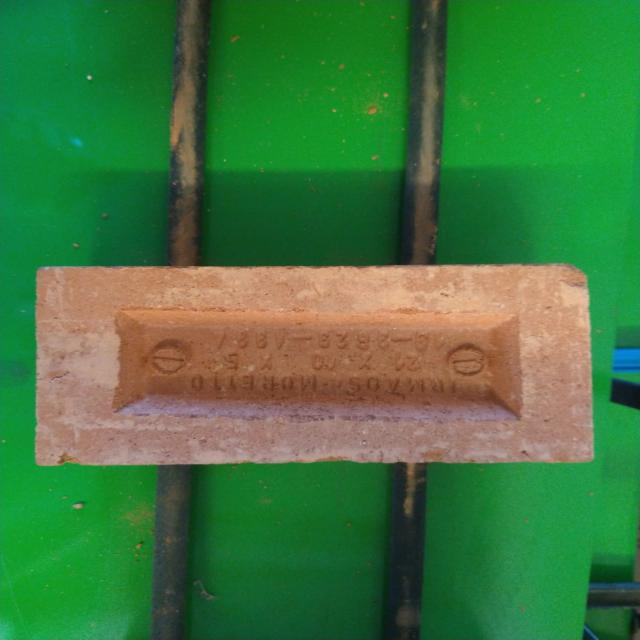bricks: (33, 265, 590, 469)
